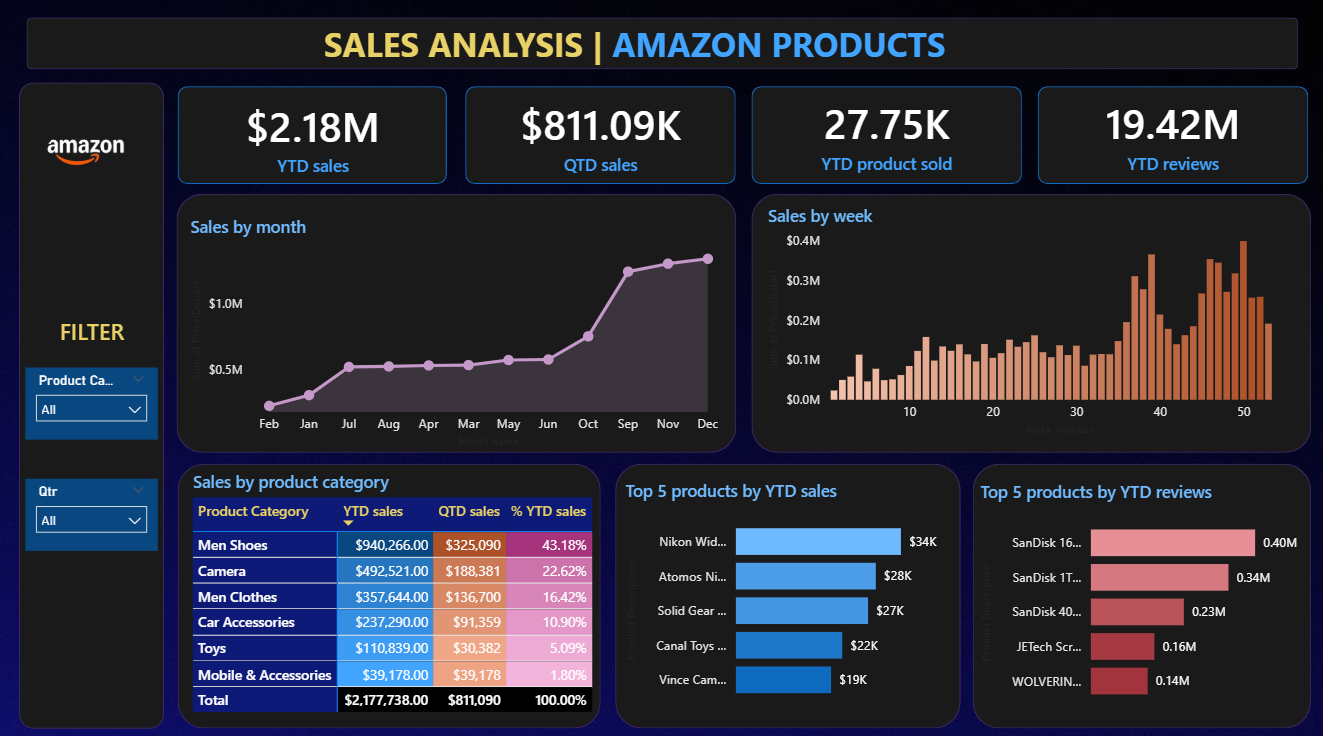

This screenshot's page, from the dashboard's own definition file:
{"tool":"powerbi","page":{"name":"Page 1","canvas":[1280,720],"ordinal":0},"visuals":[{"type":"shape","box":[26.2,21.2,1227.5,50],"z":0},{"type":"textbox","box":[298.8,20,628.8,52.5],"z":1000},{"type":"shape","box":[18.8,85,140,623.8],"z":2000},{"type":"shape","box":[172.2,87.5,259.7,94.4],"z":3000},{"type":"card","fields":{"Values":["Amazon_Data.YTD"]},"box":[179.2,94.4,247.2,84.7],"z":4000},{"type":"shape","box":[450,87.5,261.1,94.4],"z":5000},{"type":"shape","box":[1002.8,87.5,261.1,94.4],"z":6000},{"type":"shape","box":[726.4,87.5,261.1,94.4],"z":7000},{"type":"card","fields":{"Values":["Amazon_Data.QTD sales"]},"box":[456.9,93.1,247.2,84.7],"z":8000},{"type":"card","fields":{"Values":["Amazon_Data.YTD product sold"]},"box":[733.3,91.7,247.2,84.7],"z":9000},{"type":"card","fields":{"Values":["Amazon_Data.YTD reviews"]},"box":[1009.7,91.7,247.2,84.7],"z":10000},{"type":"shape","box":[170.8,191.7,540.3,250],"z":11000},{"type":"areaChart","title":"Sales by month","fields":{"Category":["Date table.Month name"],"Y":["Sum(Amazon_Data.Price(Dollar))"]},"box":[179.2,212.5,525,229.2],"z":12000},{"type":"shape","box":[726.4,191.7,540.3,250],"z":13000},{"type":"columnChart","title":"Sales by week","fields":{"Category":["Date table.Week number"],"Y":["Sum(Amazon_Data.Price(Dollar))"]},"box":[737.5,201.4,516.7,229.2],"z":14000},{"type":"shape","box":[172.2,452.8,408.3,255.6],"z":14001},{"type":"pivotTable","title":"Sales by product category","fields":{"Values":["Amazon_Data.YTD sales","Amazon_Data.QTD sales","Divide(Amazon_Data.YTD sales, ScopedEval(Amazon_Data.YTD sales, []))"],"Rows":["Amazon_Data.Product Category"]},"box":[181.9,458.3,398.6,250],"z":14002},{"type":"shape","box":[594.4,452.8,333.3,255.6],"z":14003},{"type":"shape","box":[940.3,452.8,326.4,255.6],"z":14004},{"type":"clusteredBarChart","title":"Top 5 products by YTD sales","fields":{"Y":["Amazon_Data.YTD sales"],"Category":["Amazon_Data.Product Description"]},"box":[600,466.7,322.2,226.4],"z":14005},{"type":"clusteredBarChart","title":"Top 5 products by YTD reviews","fields":{"Category":["Amazon_Data.Product Description"],"Y":["Amazon_Data.YTD reviews"]},"box":[941.7,468.1,322.2,226.4],"z":14006},{"type":"slicer","fields":{"Values":["Amazon_Data.Product Category"]},"box":[25,359.7,127.8,69.4],"z":14007},{"type":"slicer","fields":{"Values":["Date table.Qtr"]},"box":[25,466.7,127.8,69.4],"z":14008},{"type":"textbox","box":[26.4,305.6,126.4,43.1],"z":14009},{"type":"image","box":[6.9,100,152.8,101.4],"z":14010}]}

Visuals, with their boxes in screenshot pixels (x1, y1, x2, y2), scaled from the page's 1280x720 canvas onto the 1323x736 screenshot:
shape: bbox(27, 22, 1296, 73)
textbox: bbox(309, 20, 959, 74)
shape: bbox(19, 87, 164, 725)
shape: bbox(178, 89, 446, 186)
card - Amazon_Data.YTD: bbox(185, 96, 441, 183)
shape: bbox(465, 89, 735, 186)
shape: bbox(1036, 89, 1306, 186)
shape: bbox(751, 89, 1021, 186)
card - Amazon_Data.QTD sales: bbox(472, 95, 728, 182)
card - Amazon_Data.YTD product sold: bbox(758, 94, 1013, 180)
card - Amazon_Data.YTD reviews: bbox(1044, 94, 1299, 180)
shape: bbox(177, 196, 735, 452)
"Sales by month" areaChart: bbox(185, 217, 728, 452)
shape: bbox(751, 196, 1309, 452)
"Sales by week" columnChart: bbox(762, 206, 1296, 440)
shape: bbox(178, 463, 600, 724)
"Sales by product category" pivotTable: bbox(188, 468, 600, 724)
shape: bbox(614, 463, 959, 724)
shape: bbox(972, 463, 1309, 724)
"Top 5 products by YTD sales" clusteredBarChart: bbox(620, 477, 953, 709)
"Top 5 products by YTD reviews" clusteredBarChart: bbox(973, 479, 1306, 710)
slicer - Amazon_Data.Product Category: bbox(26, 368, 158, 439)
slicer - Date table.Qtr: bbox(26, 477, 158, 548)
textbox: bbox(27, 312, 158, 356)
image: bbox(7, 102, 165, 206)
